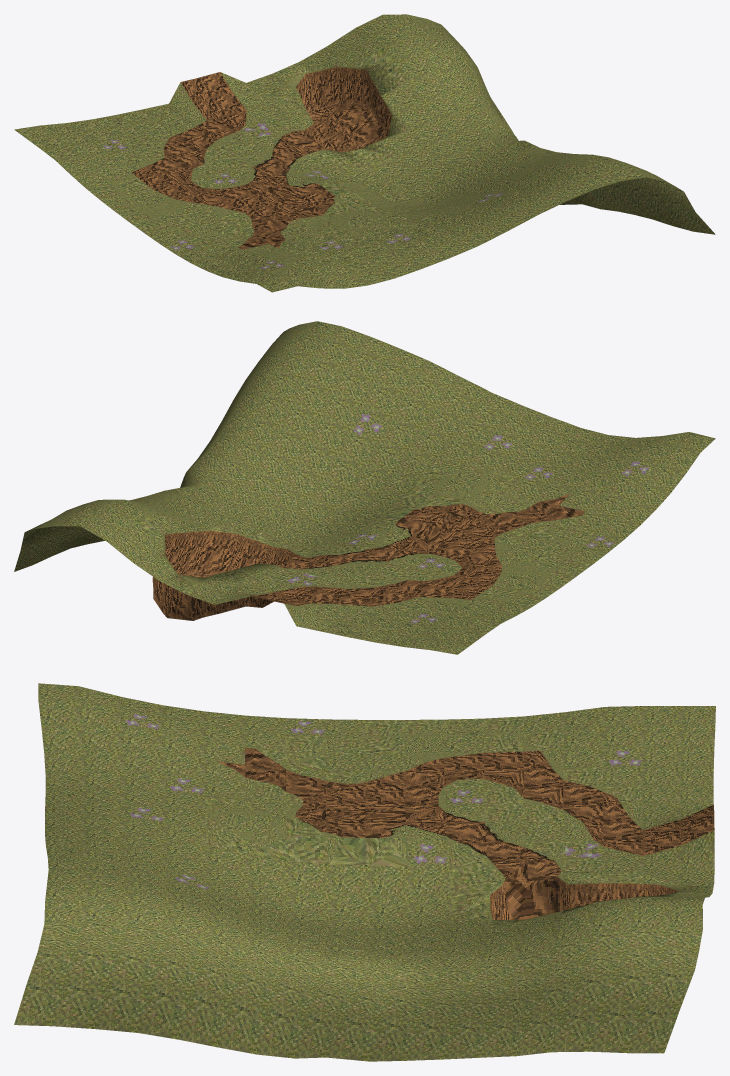
File: NewBaseTerrain.glb
3 views of the same model, one above another, from view 1: azimuth 30°, elevation 25°; view 2: azimuth 150°, elevation 25°; view 3: azimuth 270°, elevation 25° (orthographic). The views are drawn at different scales.
Visible parts, largest first — view 1: EnvironmentGrid; view 2: EnvironmentGrid; view 3: EnvironmentGrid.
Boxes of the visible parts, <box> form: EnvironmentGrid: <box>14,14,715,292</box>; EnvironmentGrid: <box>14,321,715,654</box>; EnvironmentGrid: <box>14,683,715,1061</box>.
Size of the model in its own units: 34.7 by 8.24 by 35.54.
Materials: 1 (1 with a texture image).
